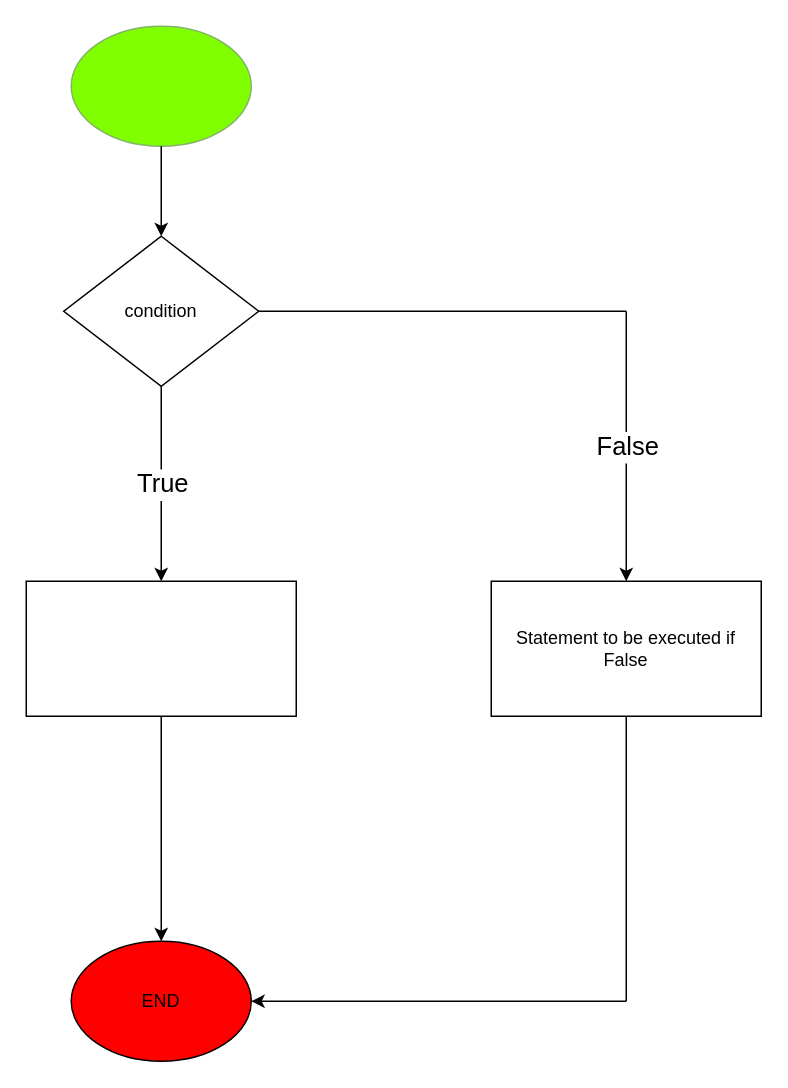
This 788x1088 diagram has some shape labels left out. Each missing label, with the centre of its shape:
START: the point at 160,85
Statement to be executed if True.: the point at 160,648
